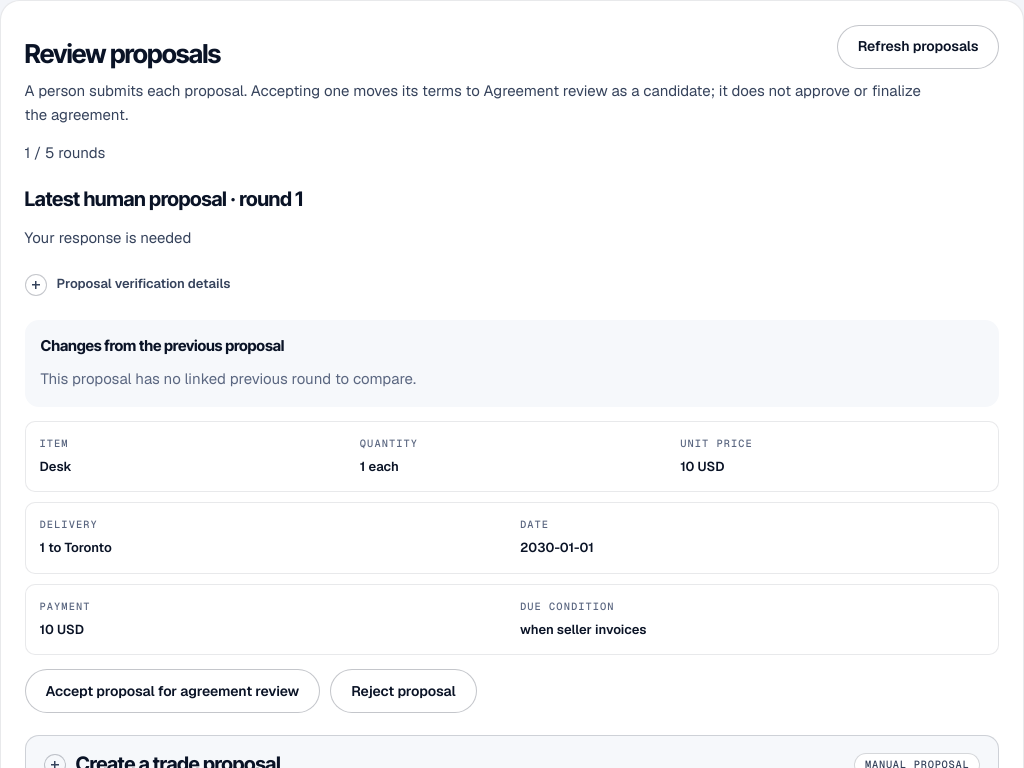
NegotiationReview › disables actions until reload after conflict
Click the button "Accept proposal for agreement review" at coordinates (172, 691), box [24,669,320,713]
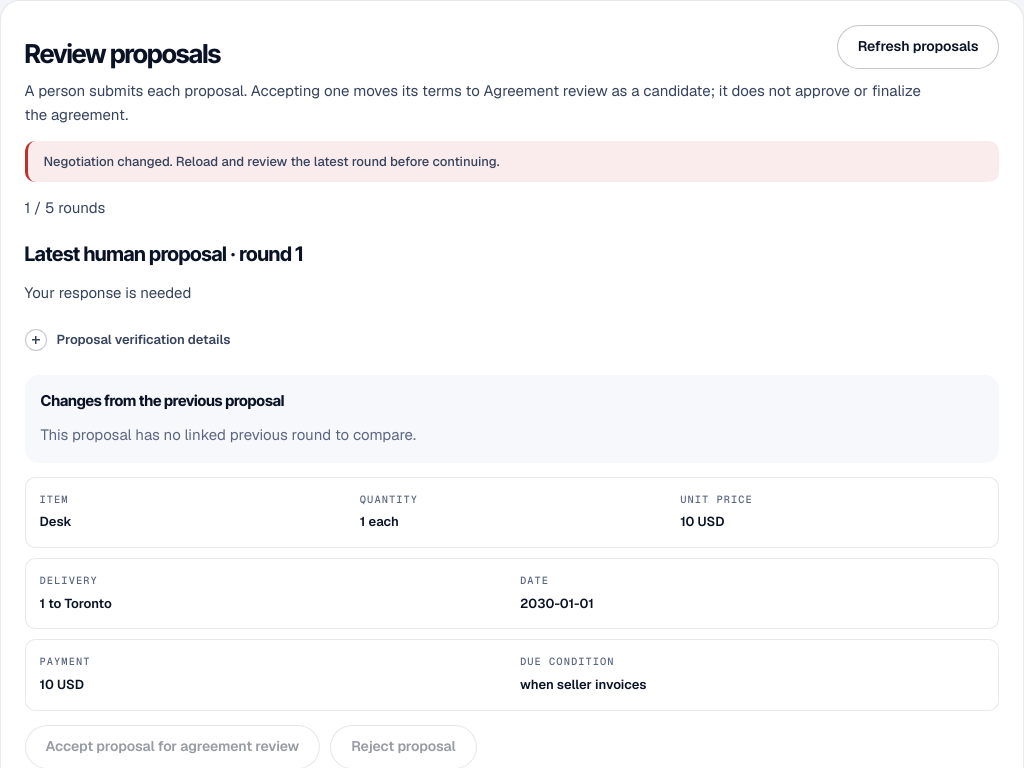
Now the message shows "Reload and review", box [44,152,499,170]
Now the button "Reject proposal" is disabled, box [330,725,476,767]
Click the button "Refresh proposals" at coordinates (918, 46), box [837,24,999,68]
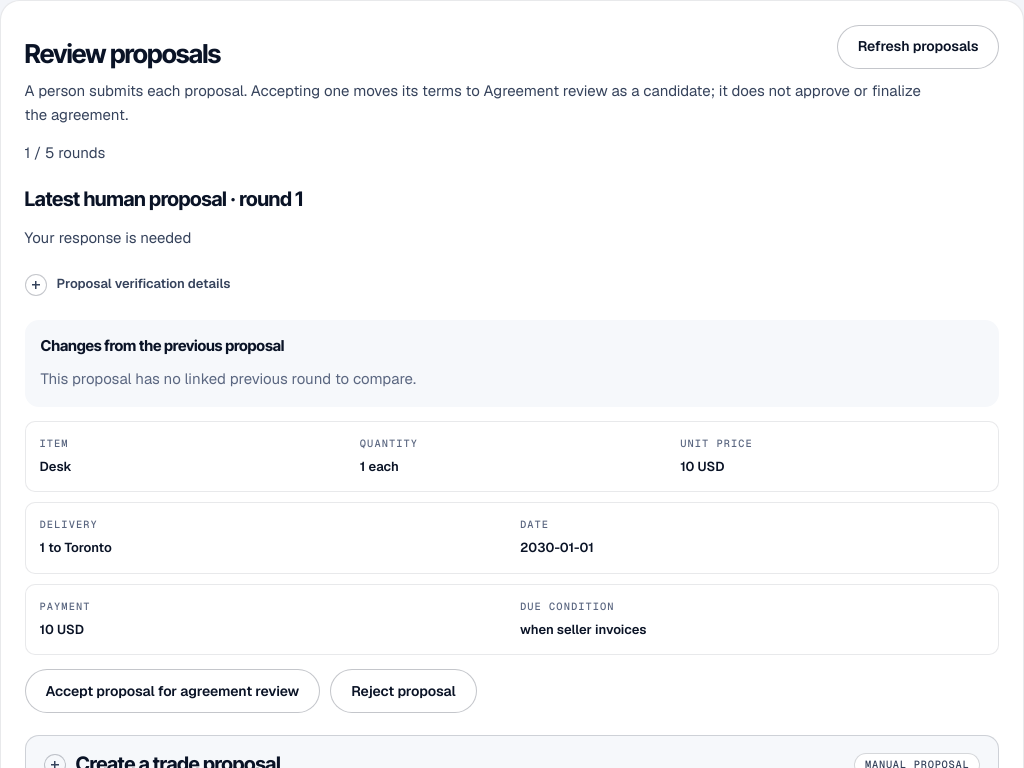
Now the button "Reject proposal" is enabled, box [330,669,476,713]
